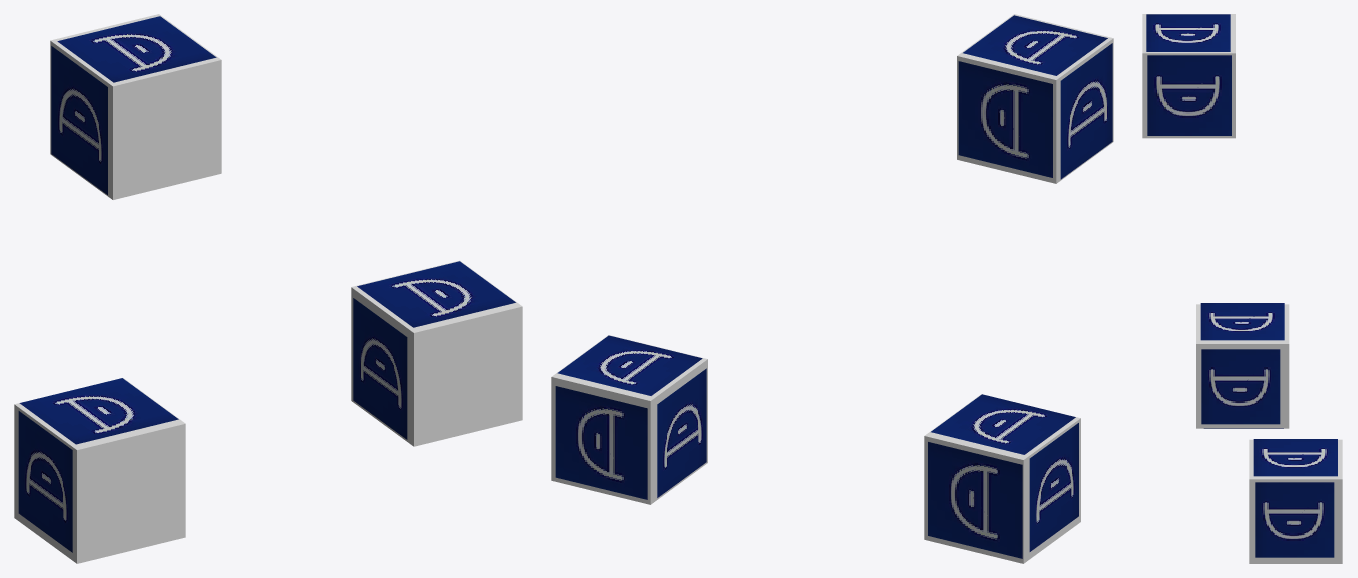
3 views of the same model, side by side, from view 1: azimuth 30°, elevation 25°; view 2: azimuth 150°, elevation 25°; view 3: azimuth 270°, elevation 25° (orthographic). The views are drawn at different scales.
Visible parts, largest first — view 1: Link20, R2.012, R2.005, R2.001, R2.010, R2.002, R2.006; view 2: Link20, R2.007, R2.013, R2.003, R2.012, R2.001, R2.005, R2.010, R2.002, R2.006; view 3: Link20, R2.014, R2, R2.008, R2.010, R2.001, R2.005.
Boxes of the visible parts, box(x1,y1,x2,y2) form: Link20: box(14, 14, 522, 563); R2.012: box(51, 46, 107, 194); R2.005: box(19, 378, 178, 444); R2.001: box(357, 261, 515, 327); R2.010: box(57, 16, 216, 82); R2.002: box(353, 298, 407, 439); R2.006: box(18, 411, 72, 552); Link20: box(551, 14, 1113, 563); R2.007: box(928, 442, 1022, 558); R2.013: box(958, 61, 1052, 177); R2.003: box(555, 386, 647, 499); R2.012: box(1060, 43, 1112, 179); R2.001: box(557, 335, 702, 395); R2.005: box(931, 394, 1075, 454); R2.010: box(963, 15, 1107, 75); R2.002: box(657, 368, 706, 497); R2.006: box(1029, 423, 1078, 551); Link20: box(1142, 14, 1342, 563); R2.014: box(1147, 55, 1231, 135); R2: box(1255, 482, 1334, 557); R2.008: box(1201, 349, 1280, 424); R2.010: box(1146, 14, 1230, 51); R2.001: box(1253, 439, 1337, 476); R2.005: box(1200, 303, 1284, 340).
Size of the model in its own units: 1.56 by 0.7528 by 1.56.
1 material, 1 textured.
